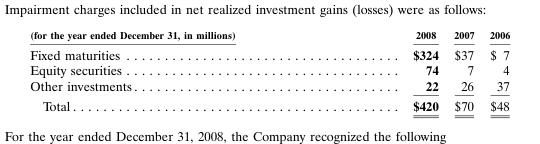table: (29, 28, 509, 113)
table column: (29, 28, 323, 113), (323, 28, 445, 113), (445, 28, 481, 113), (481, 28, 509, 113)
table column header: (29, 28, 509, 43)
table row: (29, 43, 509, 62), (29, 77, 509, 95), (29, 95, 509, 113), (29, 28, 509, 43), (29, 62, 509, 77)
